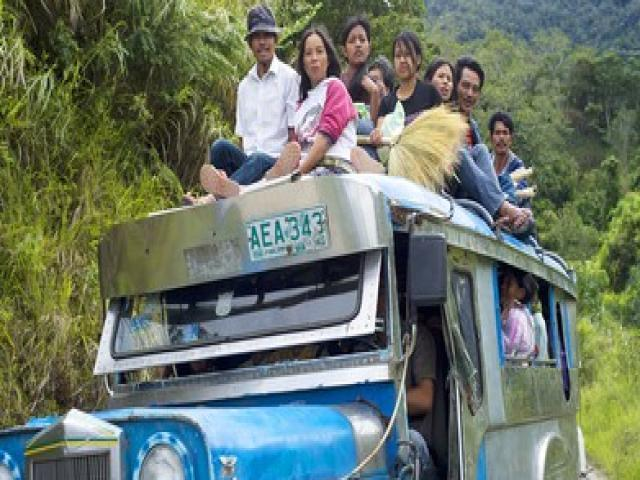jeepney: (5, 174, 598, 480)
